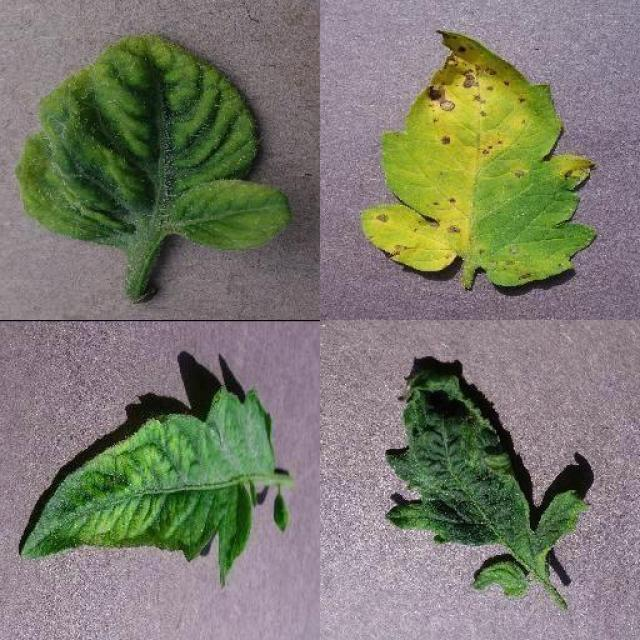Septoria: (362, 30, 598, 290)
